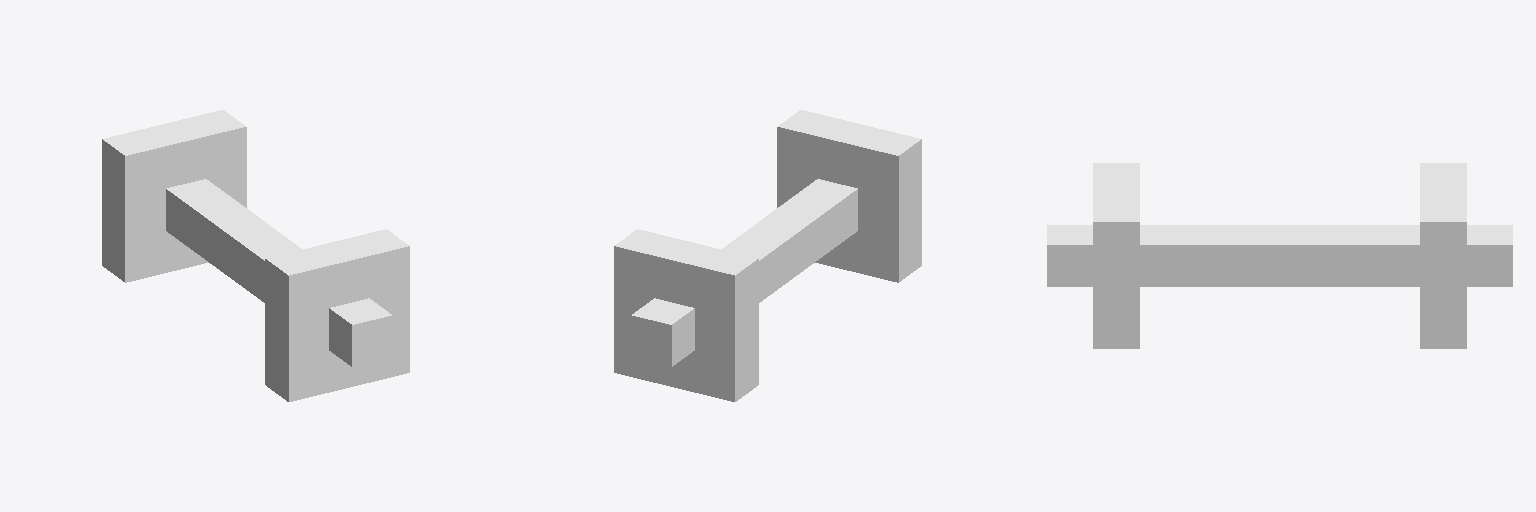
The model's file is AirplaneBodyBroken3.obj.
The picture shows the model from 3 angles: view 1: azimuth 30°, elevation 25°; view 2: azimuth 150°, elevation 25°; view 3: azimuth 270°, elevation 25°; orthographic projection.
Visible parts, largest first — view 1: object 1; view 2: object 1; view 3: object 1.
Boxes of the visible parts, x1=… form: object 1: x1=102, y1=110, x2=409, y2=401; object 1: x1=614, y1=110, x2=921, y2=401; object 1: x1=1047, y1=163, x2=1512, y2=348.
Bounding box in the file's own units: 0.3 × 0.3 × 1.